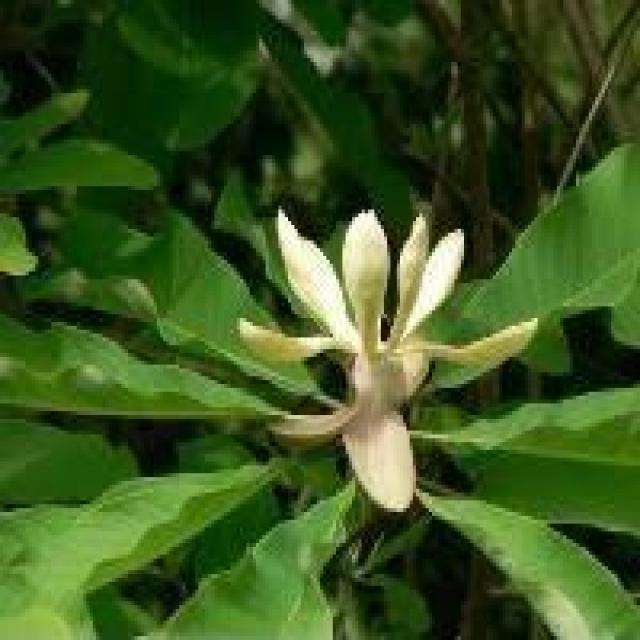organic waste: (253, 211, 528, 514)
